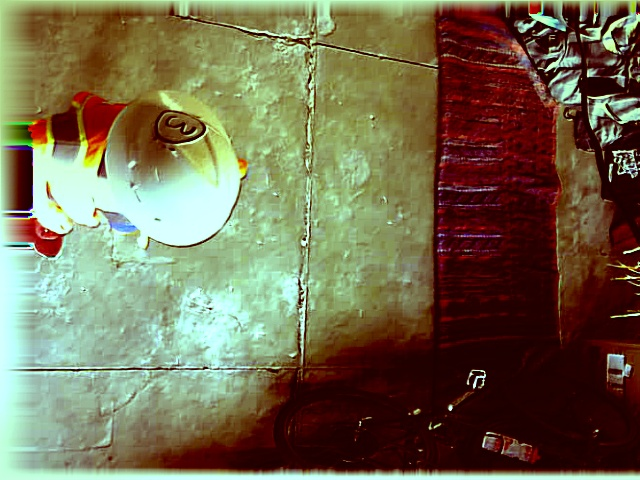three: (157, 110, 206, 145)
